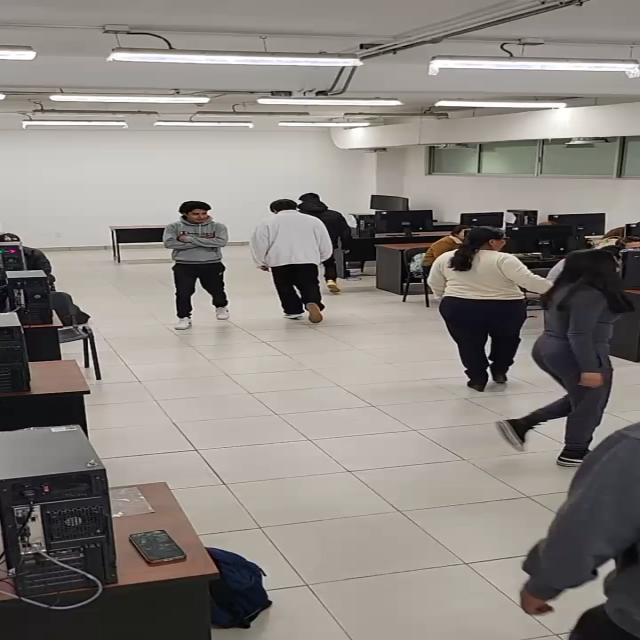Persona: (440, 214, 532, 399), (536, 242, 600, 468), (258, 201, 338, 331), (164, 200, 243, 330)
